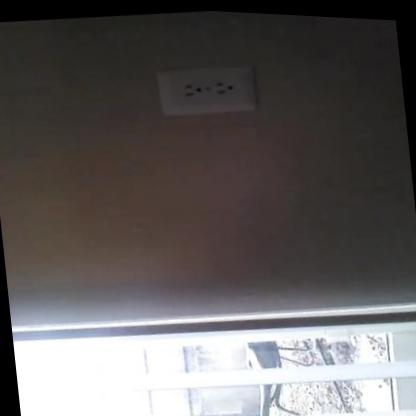OUTLET: (156, 59, 256, 118)
